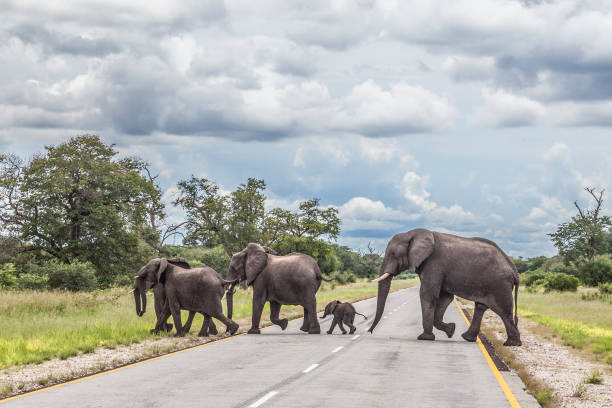africanelephant: (360, 229, 431, 319)
